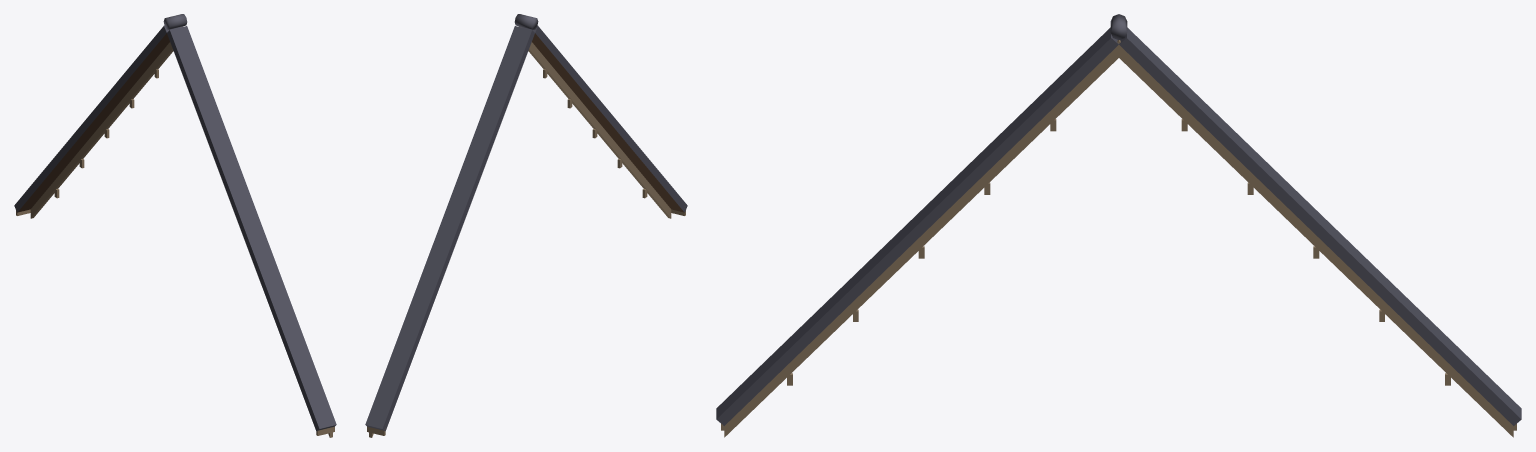
Rendered from kit_clapboard_slate_w6_end.glb.
The picture shows the model from 3 angles, left to right: view 1: azimuth 30°, elevation 25°; view 2: azimuth 150°, elevation 25°; view 3: azimuth 270°, elevation 25°; orthographic projection. The views are drawn at different scales.
Parts seen in each view (by area): view 1: kit_clapboard_slate_w6_end; view 2: kit_clapboard_slate_w6_end; view 3: kit_clapboard_slate_w6_end.
Part boxes in pixels (x1,y1,x2,y2): kit_clapboard_slate_w6_end: [14, 14, 336, 437]; kit_clapboard_slate_w6_end: [365, 14, 687, 437]; kit_clapboard_slate_w6_end: [716, 14, 1521, 437].
Size of the model in its own units: 0.22 by 3.81 by 6.73.
